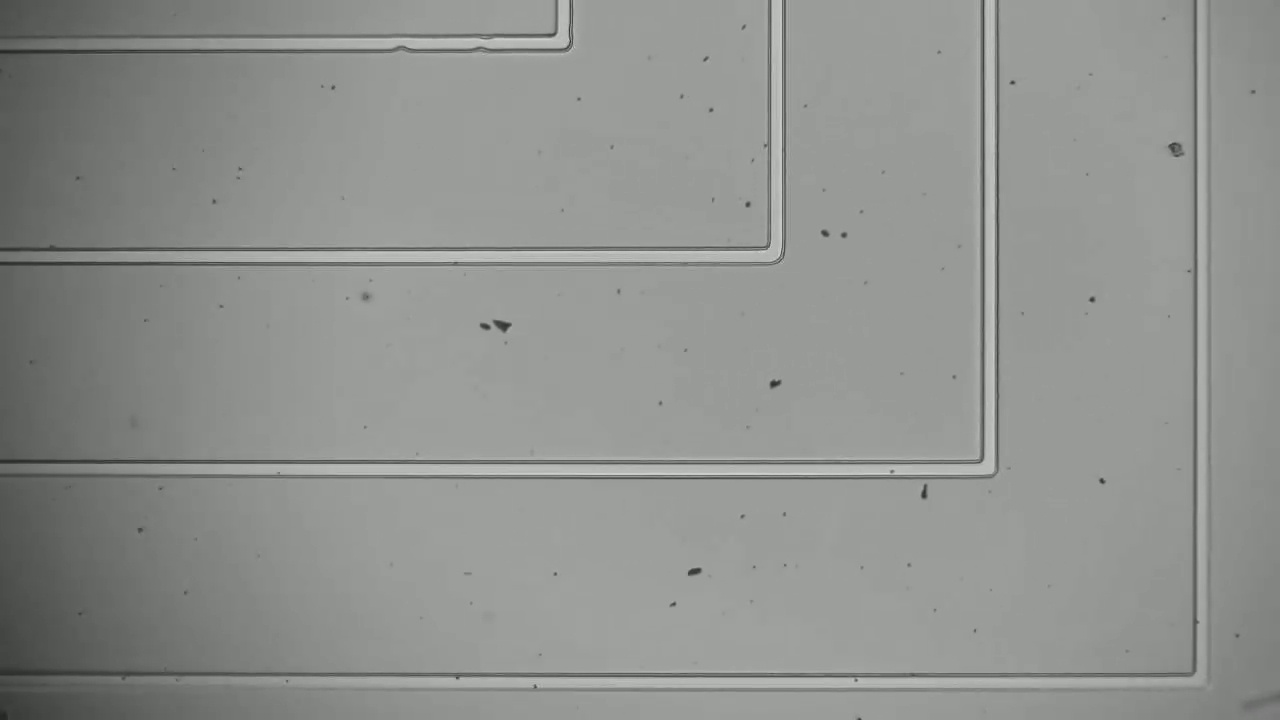edge_bite: (463, 30, 503, 60), (382, 30, 419, 62)
